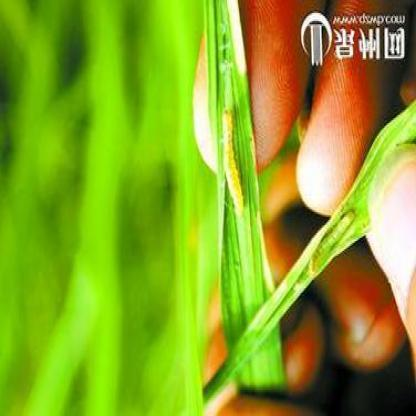leaf-folder: (213, 101, 270, 236), (300, 187, 362, 290)
